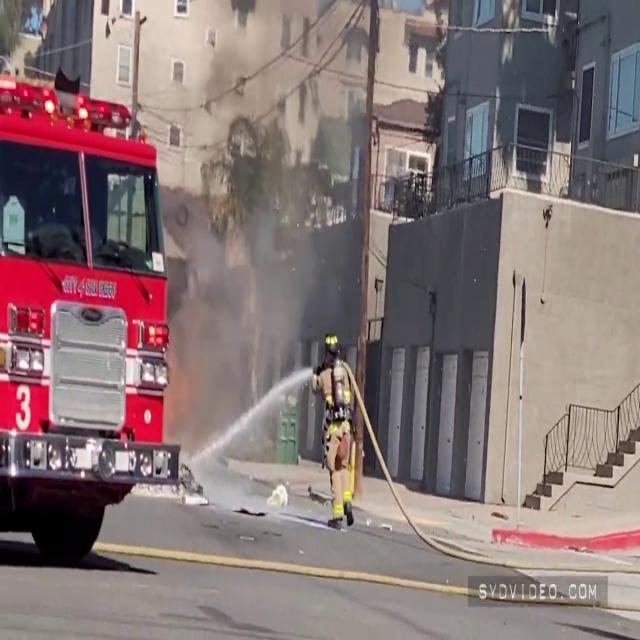Smoke: (166, 190, 314, 497)
